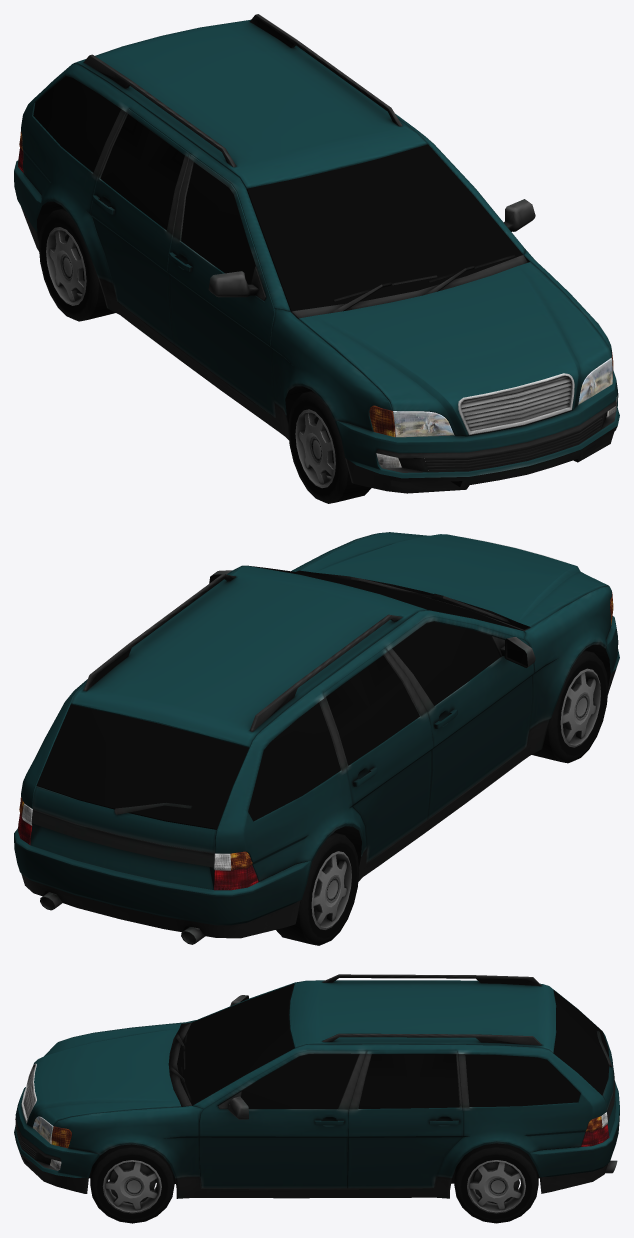
File: wagon_teal.glb
3 renders of one model, top to bottom at view 1: azimuth 30°, elevation 25°; view 2: azimuth 150°, elevation 25°; view 3: azimuth 270°, elevation 25°, orthographic. The views are drawn at different scales.
Parts seen in each view (by area): view 1: wagon body, Front Right Wheel, Rear Right Wheel; view 2: wagon body, Rear Right Wheel, Front Right Wheel; view 3: wagon body, Rear Left Wheel, Front Left Wheel.
Part boxes in pixels (x1,y1,x2,y2): wagon body: (14, 14, 619, 493); Front Right Wheel: (288, 391, 371, 503); Rear Right Wheel: (39, 208, 115, 321); wagon body: (14, 532, 619, 944); Rear Right Wheel: (276, 832, 359, 945); Front Right Wheel: (532, 650, 608, 763); wagon body: (14, 974, 619, 1198); Rear Left Wheel: (454, 1143, 538, 1223); Front Left Wheel: (90, 1144, 174, 1223).
Bounding box in the file's own units: 1.95 × 1.38 × 4.38.
1 material, 1 textured.
